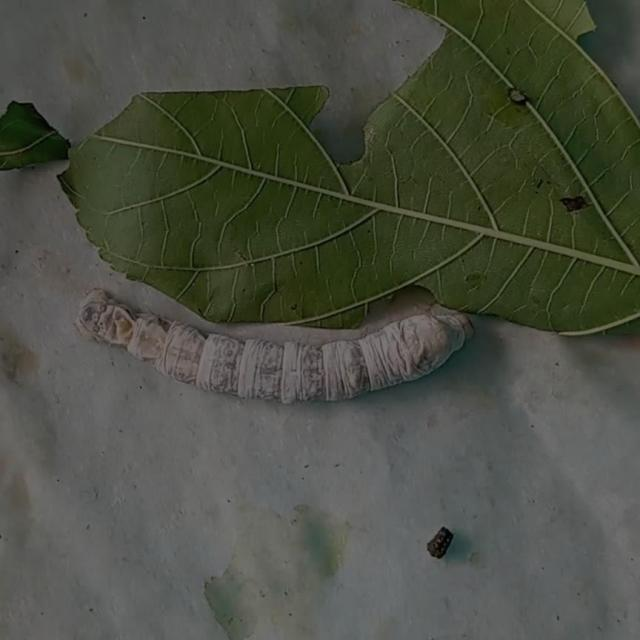Grasserie: (62, 260, 504, 440)
